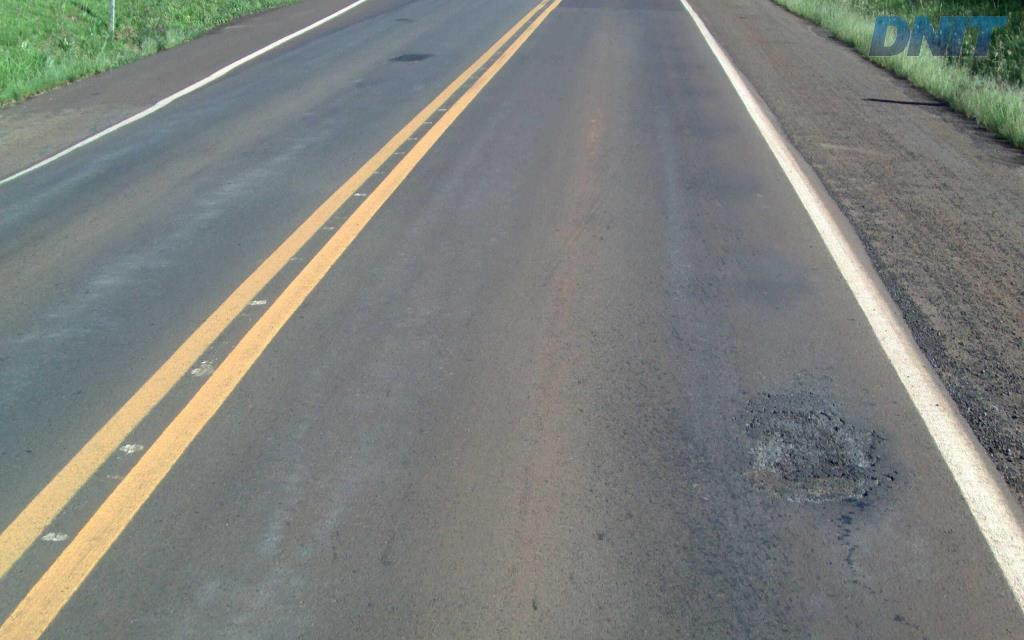crack: (773, 425, 877, 494)
pothole: (733, 404, 900, 504)
